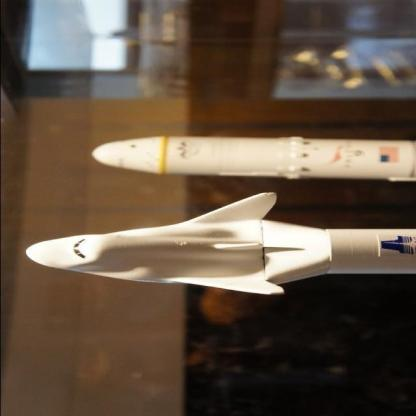MIL_TBM: (86, 136, 416, 182)
